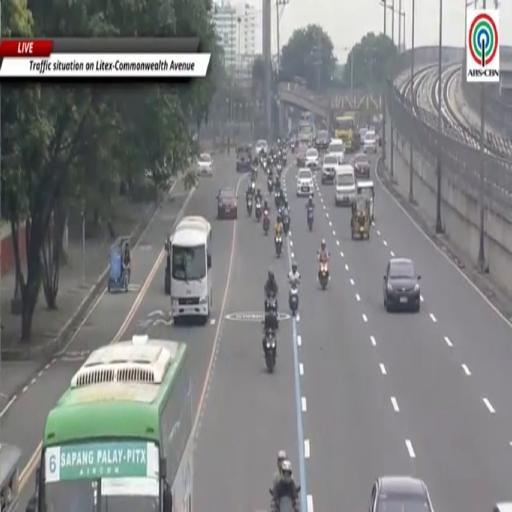bus: (27, 335, 193, 511), (170, 217, 212, 324), (175, 216, 211, 248), (334, 116, 355, 152), (298, 121, 314, 143)
car: (370, 476, 433, 511), (384, 258, 420, 312), (217, 187, 237, 219), (296, 168, 314, 198), (351, 153, 370, 180), (321, 154, 338, 184), (236, 146, 253, 171), (328, 139, 344, 164), (197, 153, 212, 177), (364, 131, 377, 154), (316, 131, 330, 151), (306, 148, 319, 169), (297, 143, 308, 167), (255, 139, 268, 154), (493, 502, 511, 511), (359, 127, 368, 139)
motorcycle: (270, 486, 300, 511), (264, 331, 276, 373), (318, 261, 329, 290), (289, 283, 298, 315), (264, 294, 277, 314), (274, 235, 282, 258), (263, 210, 269, 235), (307, 207, 313, 231), (246, 196, 253, 216), (283, 215, 290, 235), (255, 200, 261, 221), (267, 178, 273, 194), (275, 190, 280, 209), (261, 159, 267, 171), (277, 162, 282, 175), (291, 140, 296, 153), (283, 152, 287, 165), (251, 181, 255, 194)
truck: (334, 114, 360, 152)
